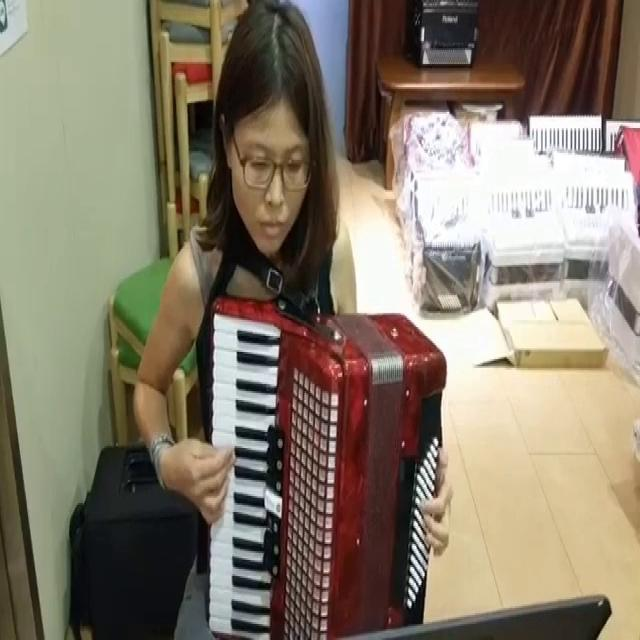Accordion: (204, 294, 447, 640)
